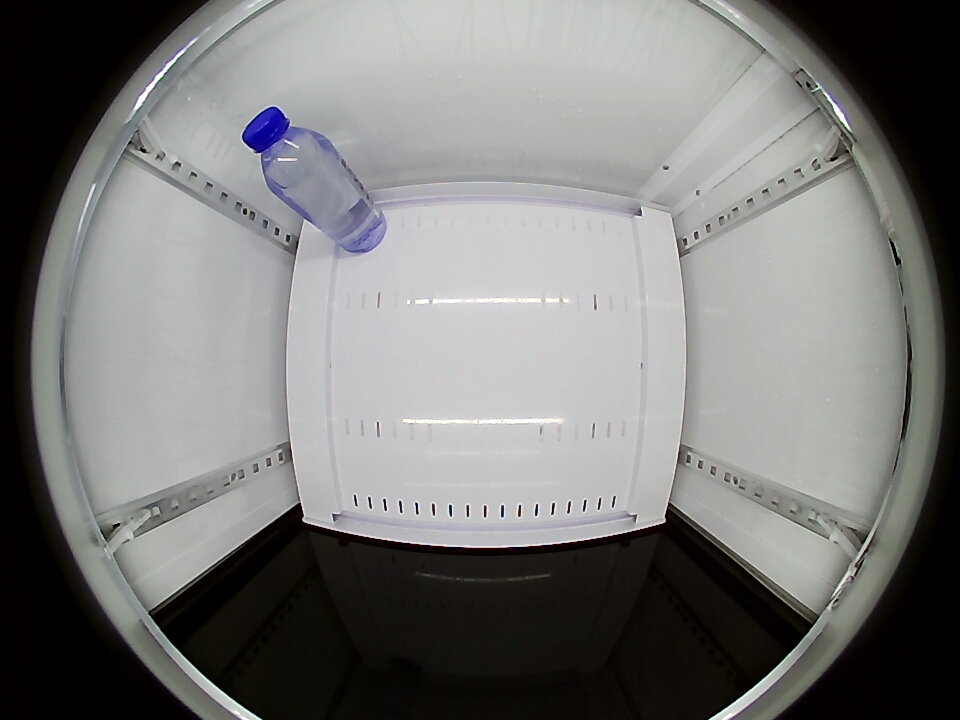aerbeisi: (241, 106, 334, 197)
